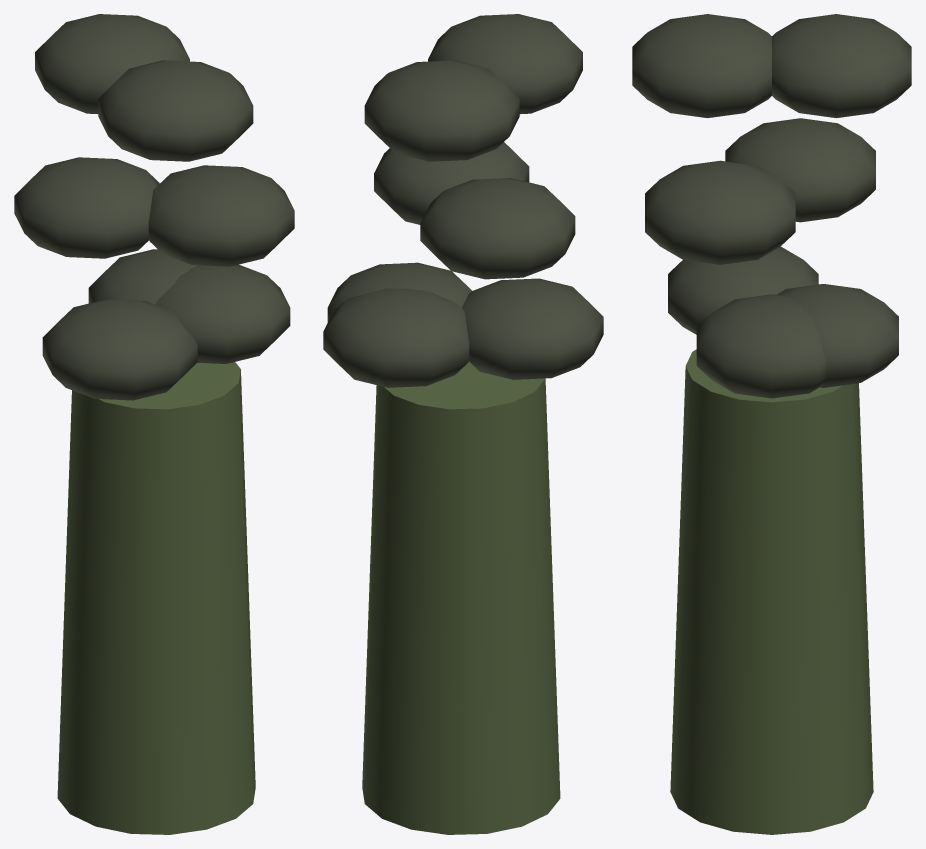
The model's file is plant-nightstand.glb.
3 views of the same model, side by side, from view 1: azimuth 30°, elevation 25°; view 2: azimuth 150°, elevation 25°; view 3: azimuth 270°, elevation 25° (orthographic).
Parts seen in each view (by area): view 1: REF-L03-R01-plant-nightstand-part-1, REF-L03-R01-plant-nightstand-part-4, REF-L03-R01-plant-nightstand-part-5, REF-L03-R01-plant-nightstand-part-3, REF-L03-R01-plant-nightstand-part-6, REF-L03-R01-plant-nightstand-part-2, REF-L03-R01-plant-nightstand-part-7, REF-L03-R01-plant-nightstand-part-8; view 2: REF-L03-R01-plant-nightstand-part-1, REF-L03-R01-plant-nightstand-part-7, REF-L03-R01-plant-nightstand-part-6, REF-L03-R01-plant-nightstand-part-8, REF-L03-R01-plant-nightstand-part-5, REF-L03-R01-plant-nightstand-part-4, REF-L03-R01-plant-nightstand-part-3, REF-L03-R01-plant-nightstand-part-2; view 3: REF-L03-R01-plant-nightstand-part-1, REF-L03-R01-plant-nightstand-part-3, REF-L03-R01-plant-nightstand-part-4, REF-L03-R01-plant-nightstand-part-7, REF-L03-R01-plant-nightstand-part-2, REF-L03-R01-plant-nightstand-part-6, REF-L03-R01-plant-nightstand-part-8, REF-L03-R01-plant-nightstand-part-5.
Boxes of the visible parts, x1=… form: REF-L03-R01-plant-nightstand-part-1: x1=57, y1=362, x2=255, y2=834; REF-L03-R01-plant-nightstand-part-4: x1=98, y1=60, x2=253, y2=161; REF-L03-R01-plant-nightstand-part-5: x1=42, y1=299, x2=197, y2=400; REF-L03-R01-plant-nightstand-part-3: x1=148, y1=165, x2=294, y2=266; REF-L03-R01-plant-nightstand-part-6: x1=14, y1=157, x2=159, y2=258; REF-L03-R01-plant-nightstand-part-2: x1=155, y1=264, x2=290, y2=363; REF-L03-R01-plant-nightstand-part-7: x1=35, y1=14, x2=189, y2=114; REF-L03-R01-plant-nightstand-part-8: x1=88, y1=249, x2=198, y2=304; REF-L03-R01-plant-nightstand-part-1: x1=362, y1=362, x2=560, y2=834; REF-L03-R01-plant-nightstand-part-7: x1=364, y1=60, x2=519, y2=161; REF-L03-R01-plant-nightstand-part-6: x1=420, y1=178, x2=575, y2=279; REF-L03-R01-plant-nightstand-part-8: x1=323, y1=288, x2=469, y2=387; REF-L03-R01-plant-nightstand-part-5: x1=461, y1=278, x2=603, y2=379; REF-L03-R01-plant-nightstand-part-4: x1=428, y1=14, x2=582, y2=114; REF-L03-R01-plant-nightstand-part-3: x1=374, y1=142, x2=529, y2=224; REF-L03-R01-plant-nightstand-part-2: x1=327, y1=262, x2=471, y2=322; REF-L03-R01-plant-nightstand-part-1: x1=670, y1=349, x2=873, y2=834; REF-L03-R01-plant-nightstand-part-3: x1=645, y1=160, x2=795, y2=264; REF-L03-R01-plant-nightstand-part-4: x1=632, y1=14, x2=771, y2=118; REF-L03-R01-plant-nightstand-part-7: x1=772, y1=14, x2=911, y2=118; REF-L03-R01-plant-nightstand-part-2: x1=696, y1=294, x2=826, y2=398; REF-L03-R01-plant-nightstand-part-6: x1=725, y1=118, x2=875, y2=222; REF-L03-R01-plant-nightstand-part-8: x1=776, y1=284, x2=898, y2=387; REF-L03-R01-plant-nightstand-part-5: x1=668, y1=246, x2=818, y2=334.
Bounding box in the file's own units: 0.0489 × 0.1445 × 0.0481.
